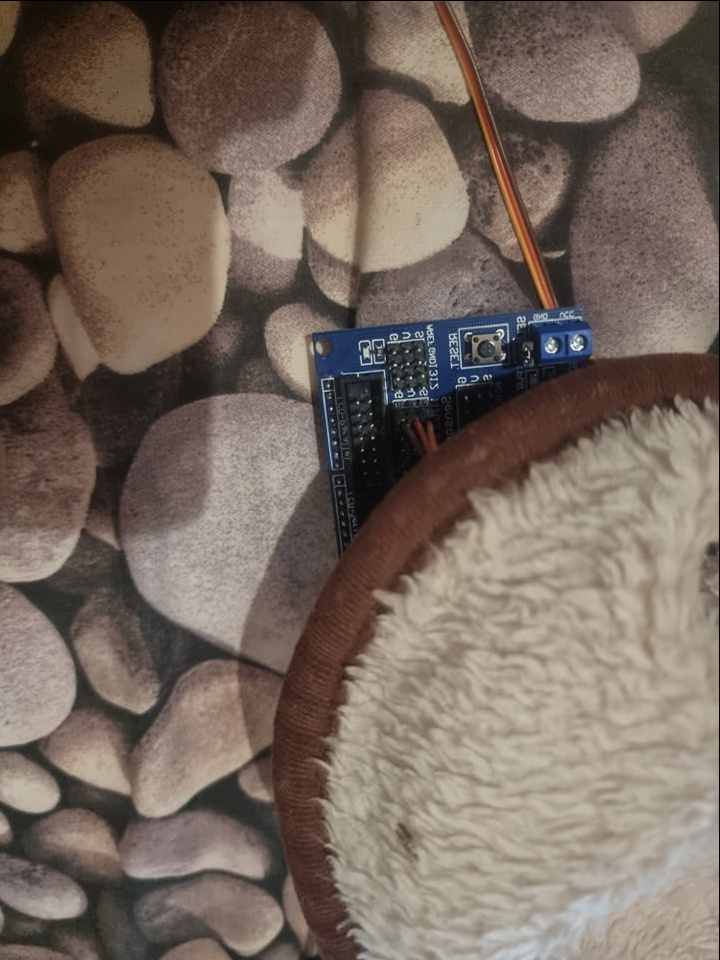5V EXPANSION: (307, 301, 595, 576)
